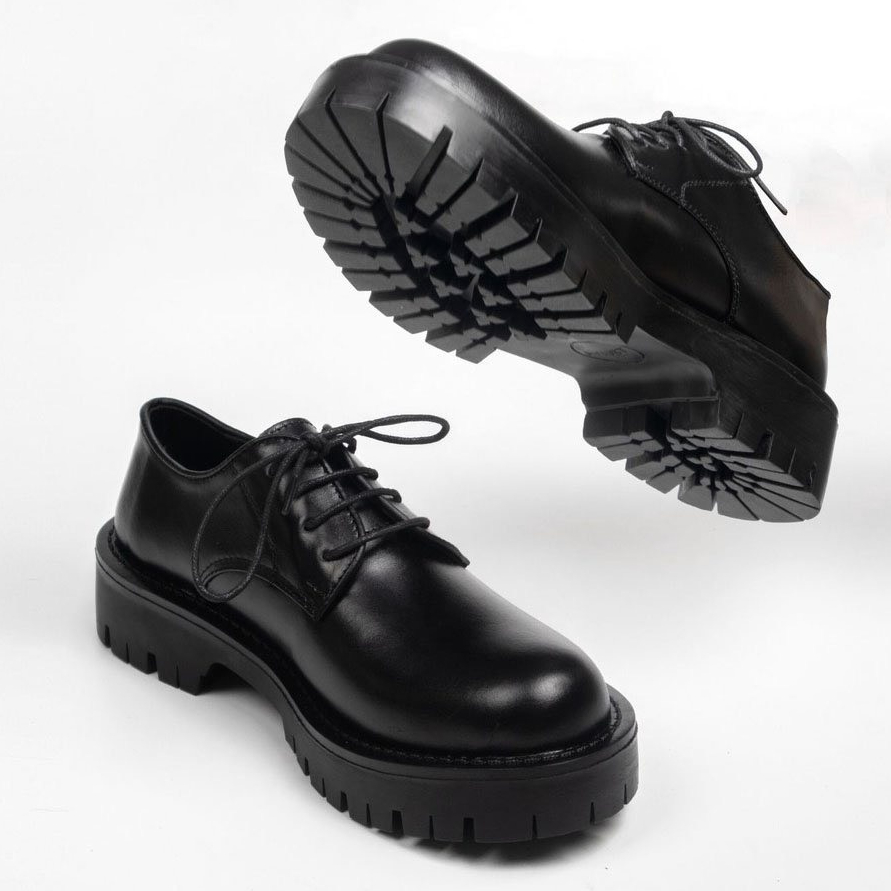derby: (281, 37, 840, 523), (92, 398, 640, 847)
